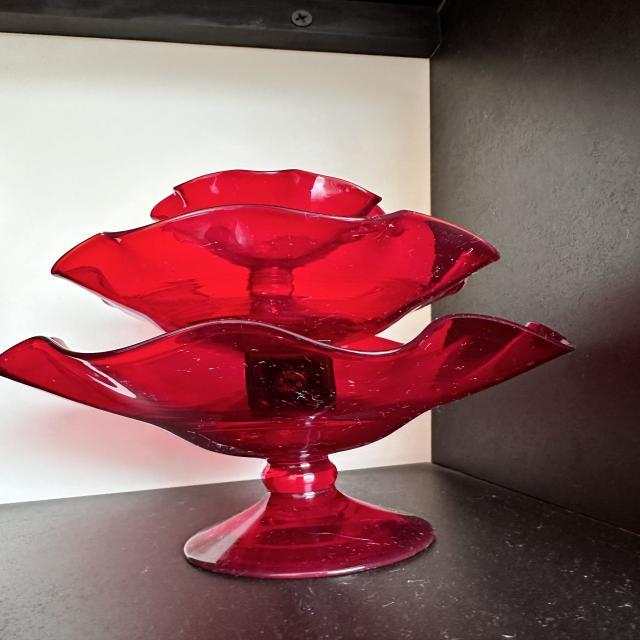hidden camera: (274, 372, 308, 395)
